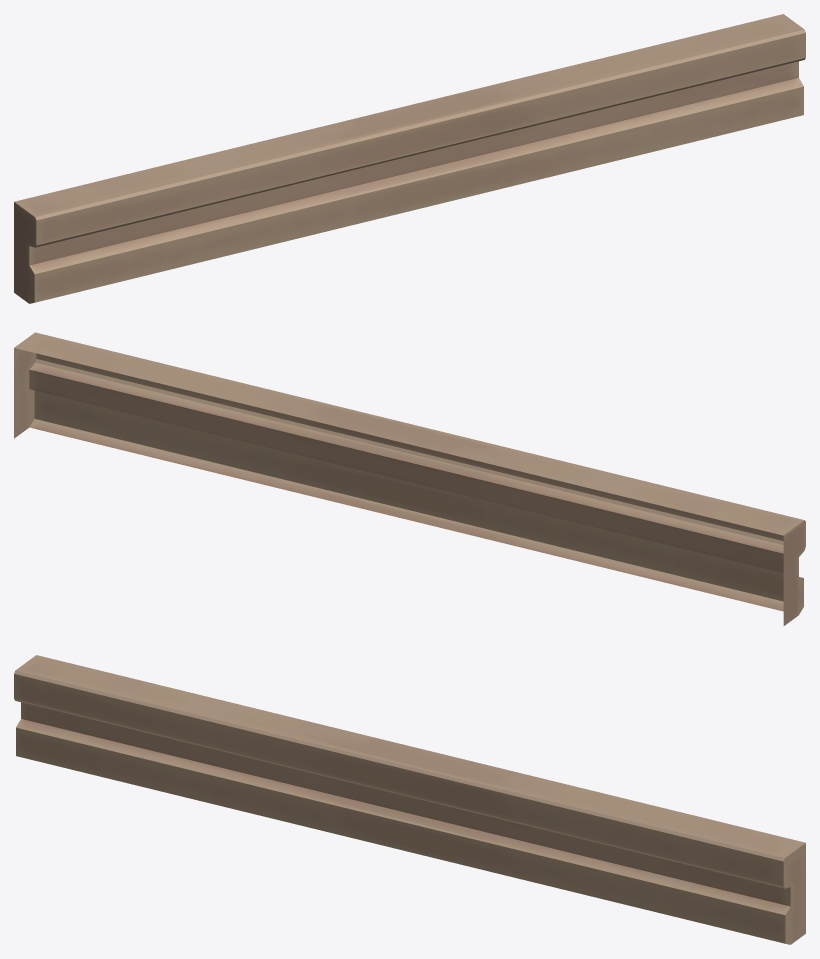
File: WallPanel (2).fbx
3 views of the same model, one above another, from view 1: azimuth 30°, elevation 25°; view 2: azimuth 150°, elevation 25°; view 3: azimuth 330°, elevation 25° (orthographic).
Parts seen in each view (by area): view 1: wallPanel (2); view 2: wallPanel (2); view 3: wallPanel (2).
Part boxes in pixels (x1,y1,x2,y2): wallPanel (2): (14, 14, 805, 303); wallPanel (2): (14, 332, 805, 625); wallPanel (2): (14, 655, 805, 944).
Bounding box in the file's own units: 1600 × 181 × 80.93.
Materials: 1 (1 with a texture image).
